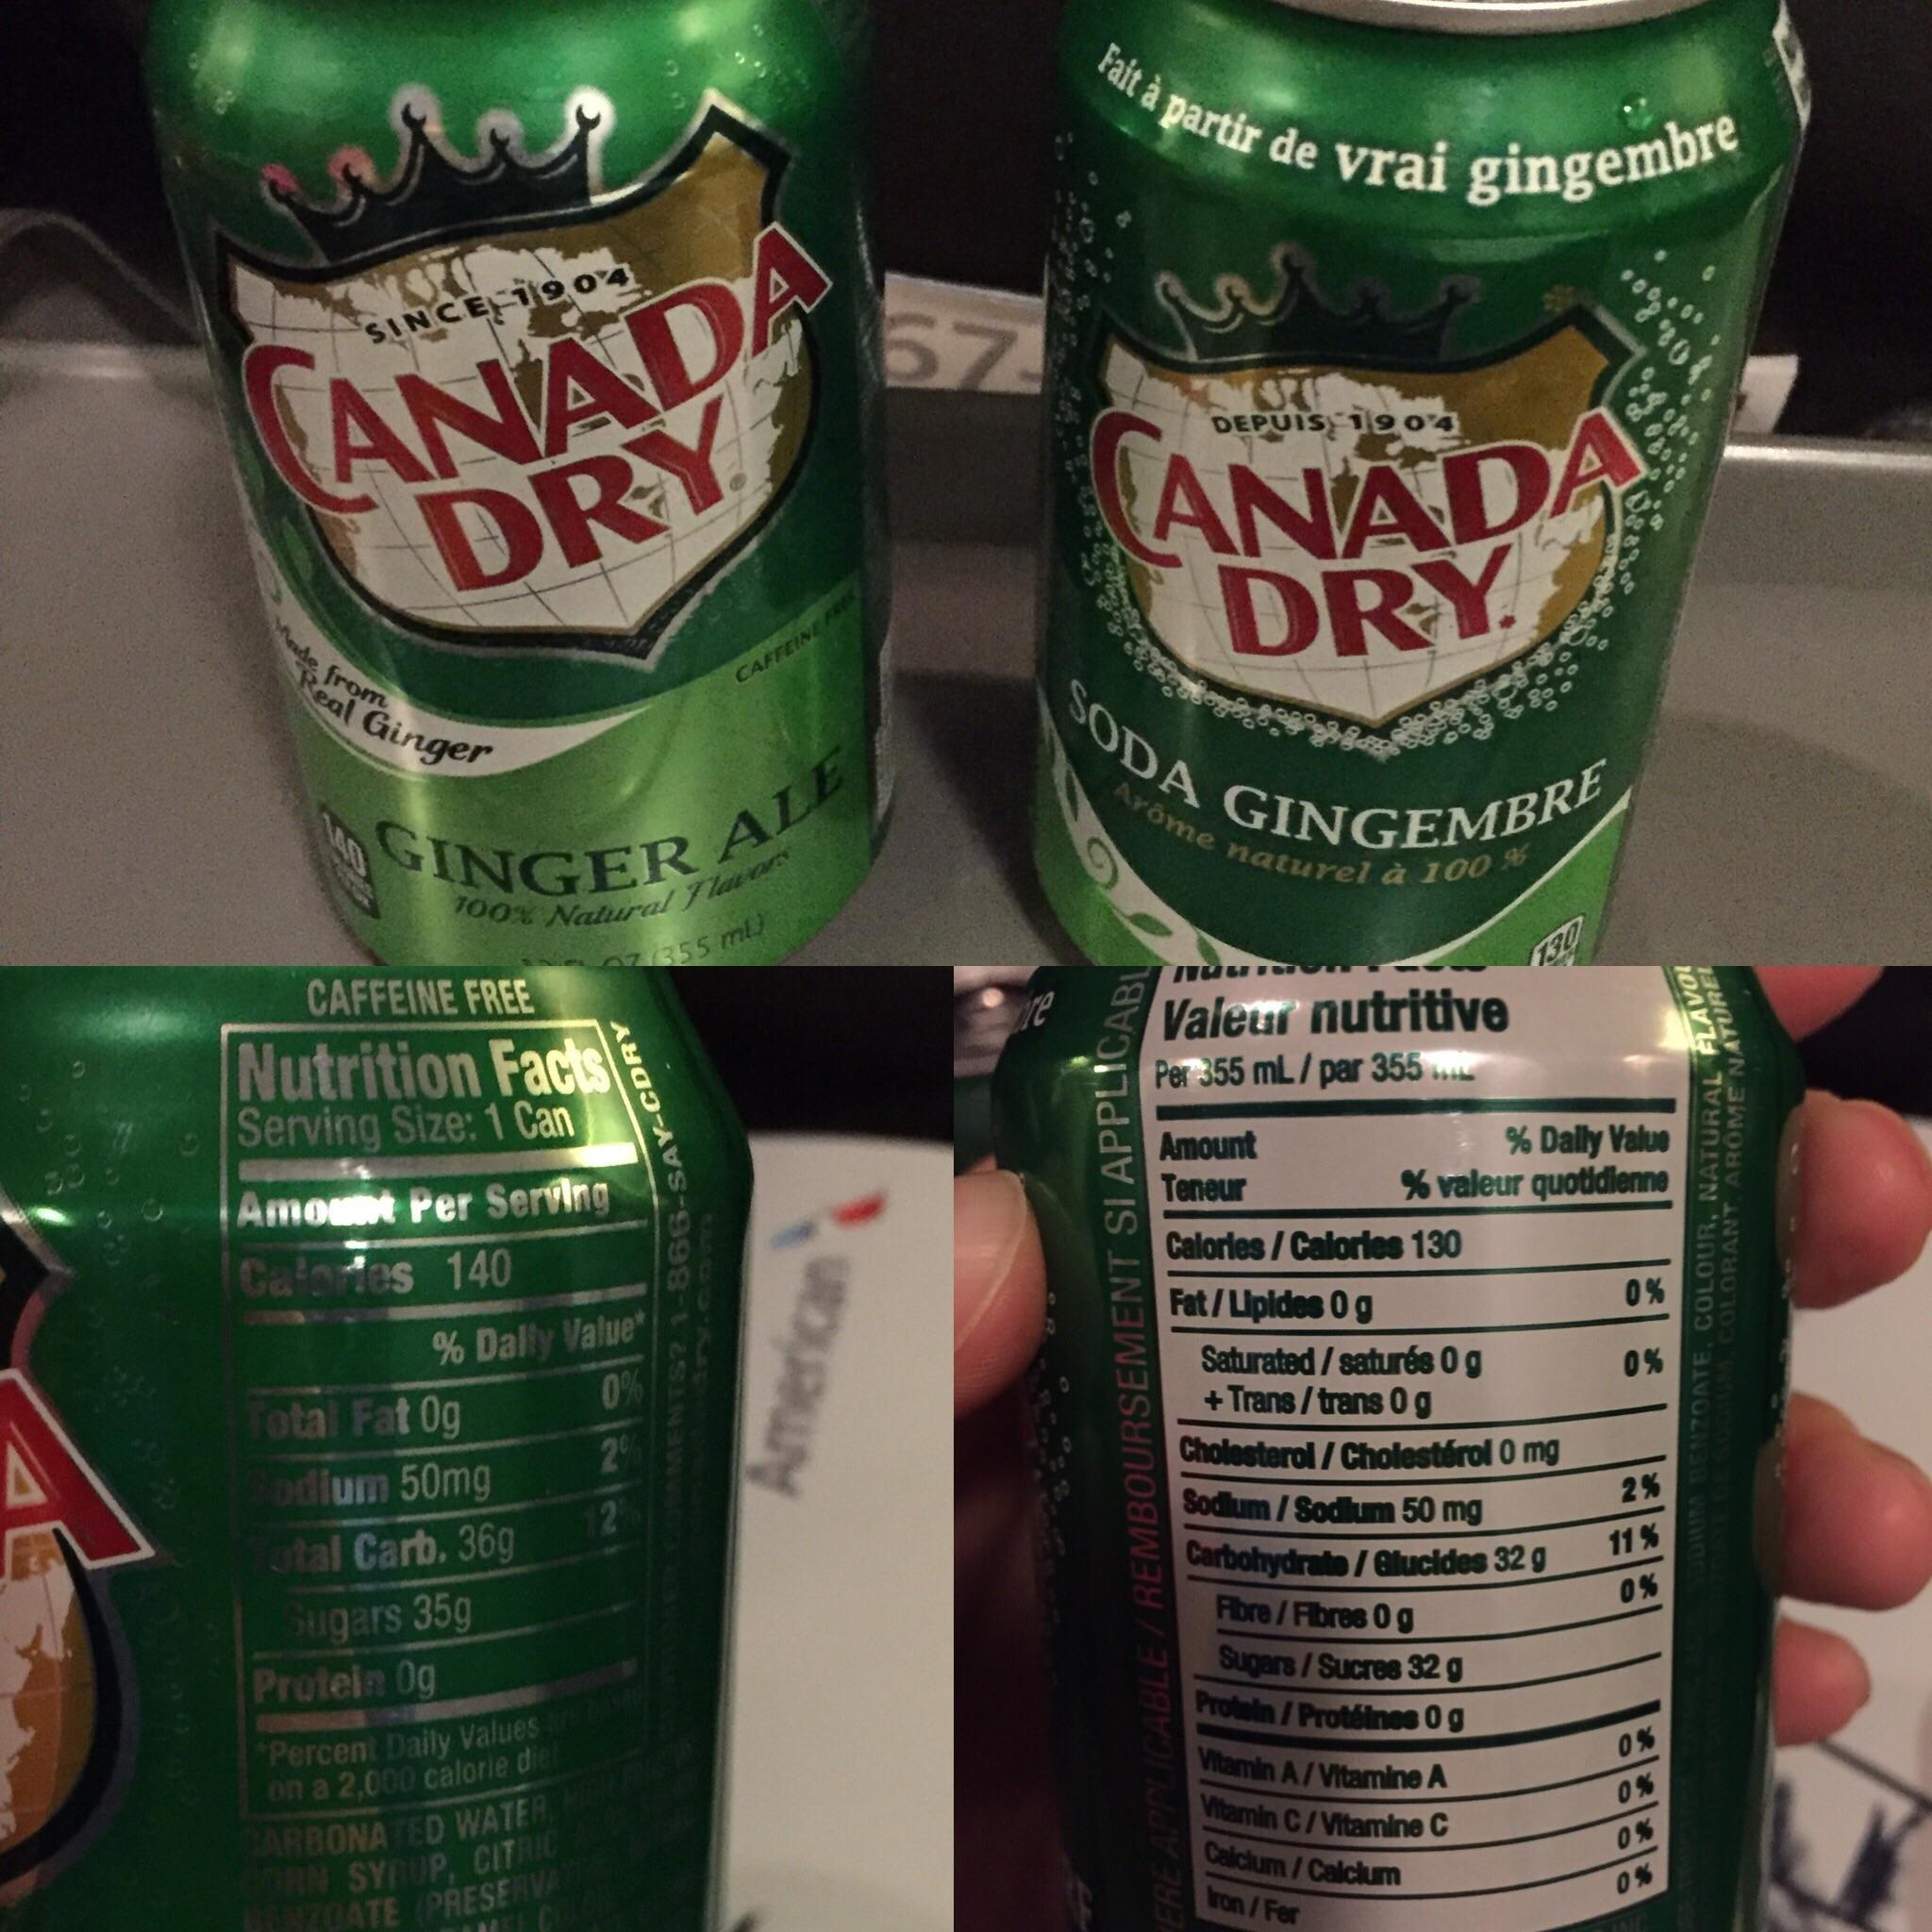Lata: (172, 2, 941, 984)
